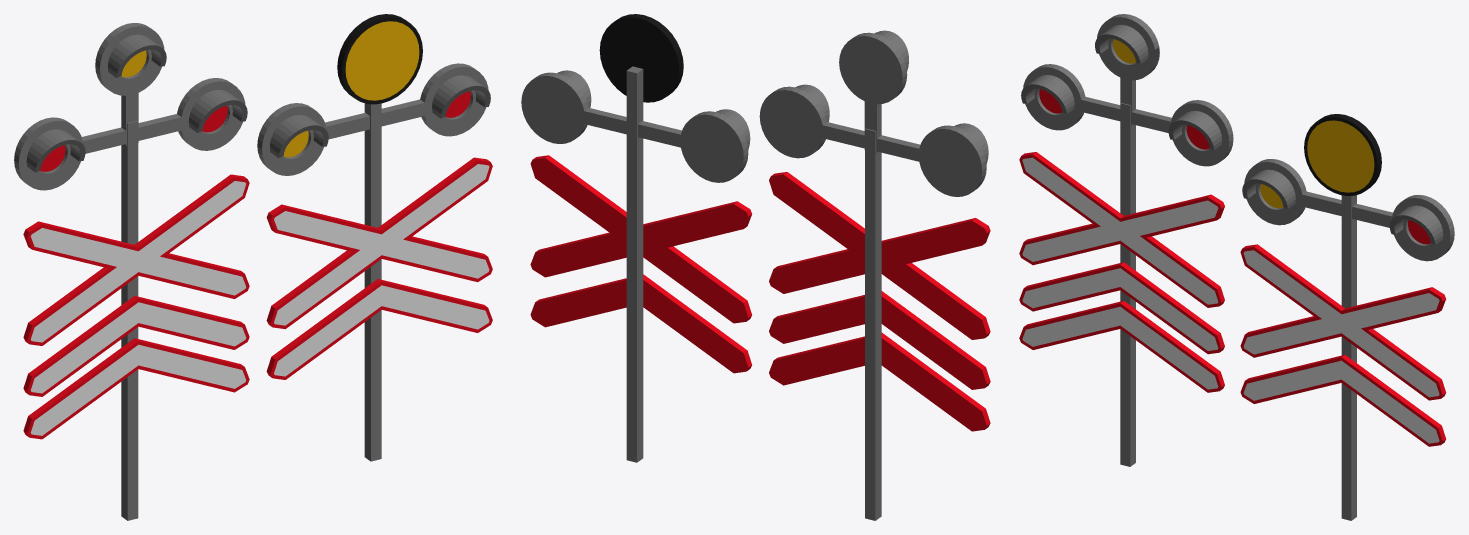
File: railroad_signs.fbx
The picture shows the model from 3 angles, left to right: view 1: azimuth 30°, elevation 25°; view 2: azimuth 150°, elevation 25°; view 3: azimuth 330°, elevation 25°; orthographic projection. The views are drawn at different scales.
Parts seen in each view (by area): view 1: SIGN2, SIGN1; view 2: SIGN2, SIGN1; view 3: SIGN2, SIGN1.
Boxes of the visible parts, <box> form: SIGN2: <box>14,23,249,520</box>; SIGN1: <box>257,14,492,461</box>; SIGN2: <box>759,30,990,520</box>; SIGN1: <box>521,14,751,462</box>; SIGN2: <box>1019,14,1233,466</box>; SIGN1: <box>1240,114,1454,520</box>.
Bounding box in the file's own units: 1160 × 1160 × 85.42.
